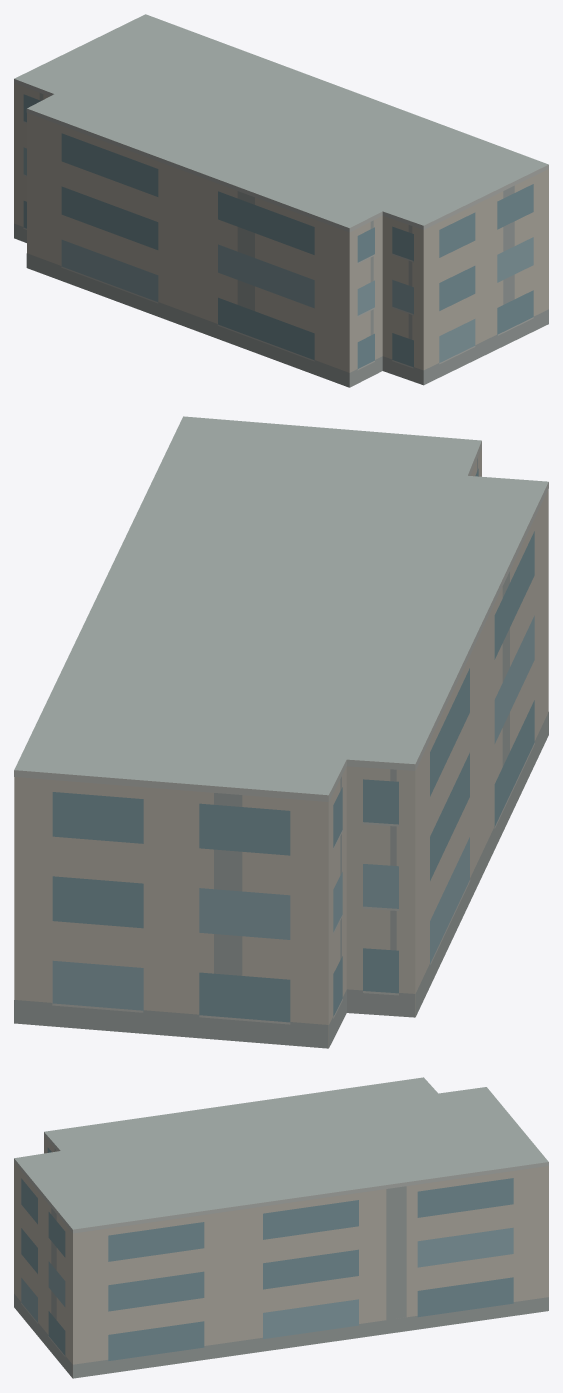
Rendered from survey-upis-32790207.glb.
3 renders of one model, top to bottom at view 1: azimuth 30°, elevation 25°; view 2: azimuth 150°, elevation 25°; view 3: azimuth 270°, elevation 25°, orthographic. The views are drawn at different scales.
Visible parts, largest first — view 1: survey-upis-32790207.tmp; view 2: survey-upis-32790207.tmp; view 3: survey-upis-32790207.tmp.
Part boxes in pixels (left/top/right/bottom): survey-upis-32790207.tmp: left=14, top=14, right=548, bottom=387; survey-upis-32790207.tmp: left=14, top=416, right=548, bottom=1048; survey-upis-32790207.tmp: left=14, top=1077, right=548, bottom=1378.
Bounding box in the file's own units: 20.07 × 9.15 × 29.78.
